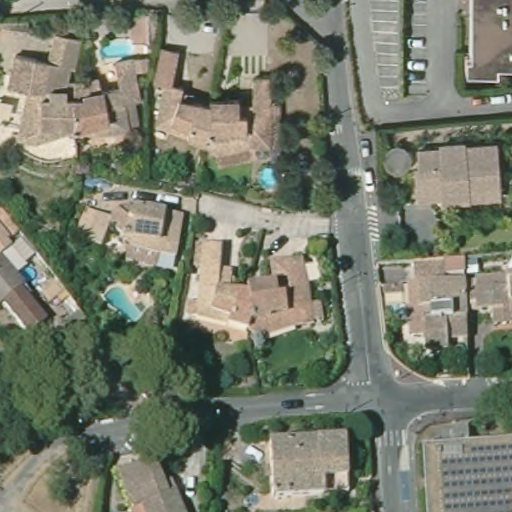pool: (104, 284, 145, 323), (102, 36, 142, 62), (257, 161, 288, 189), (21, 265, 37, 282)
